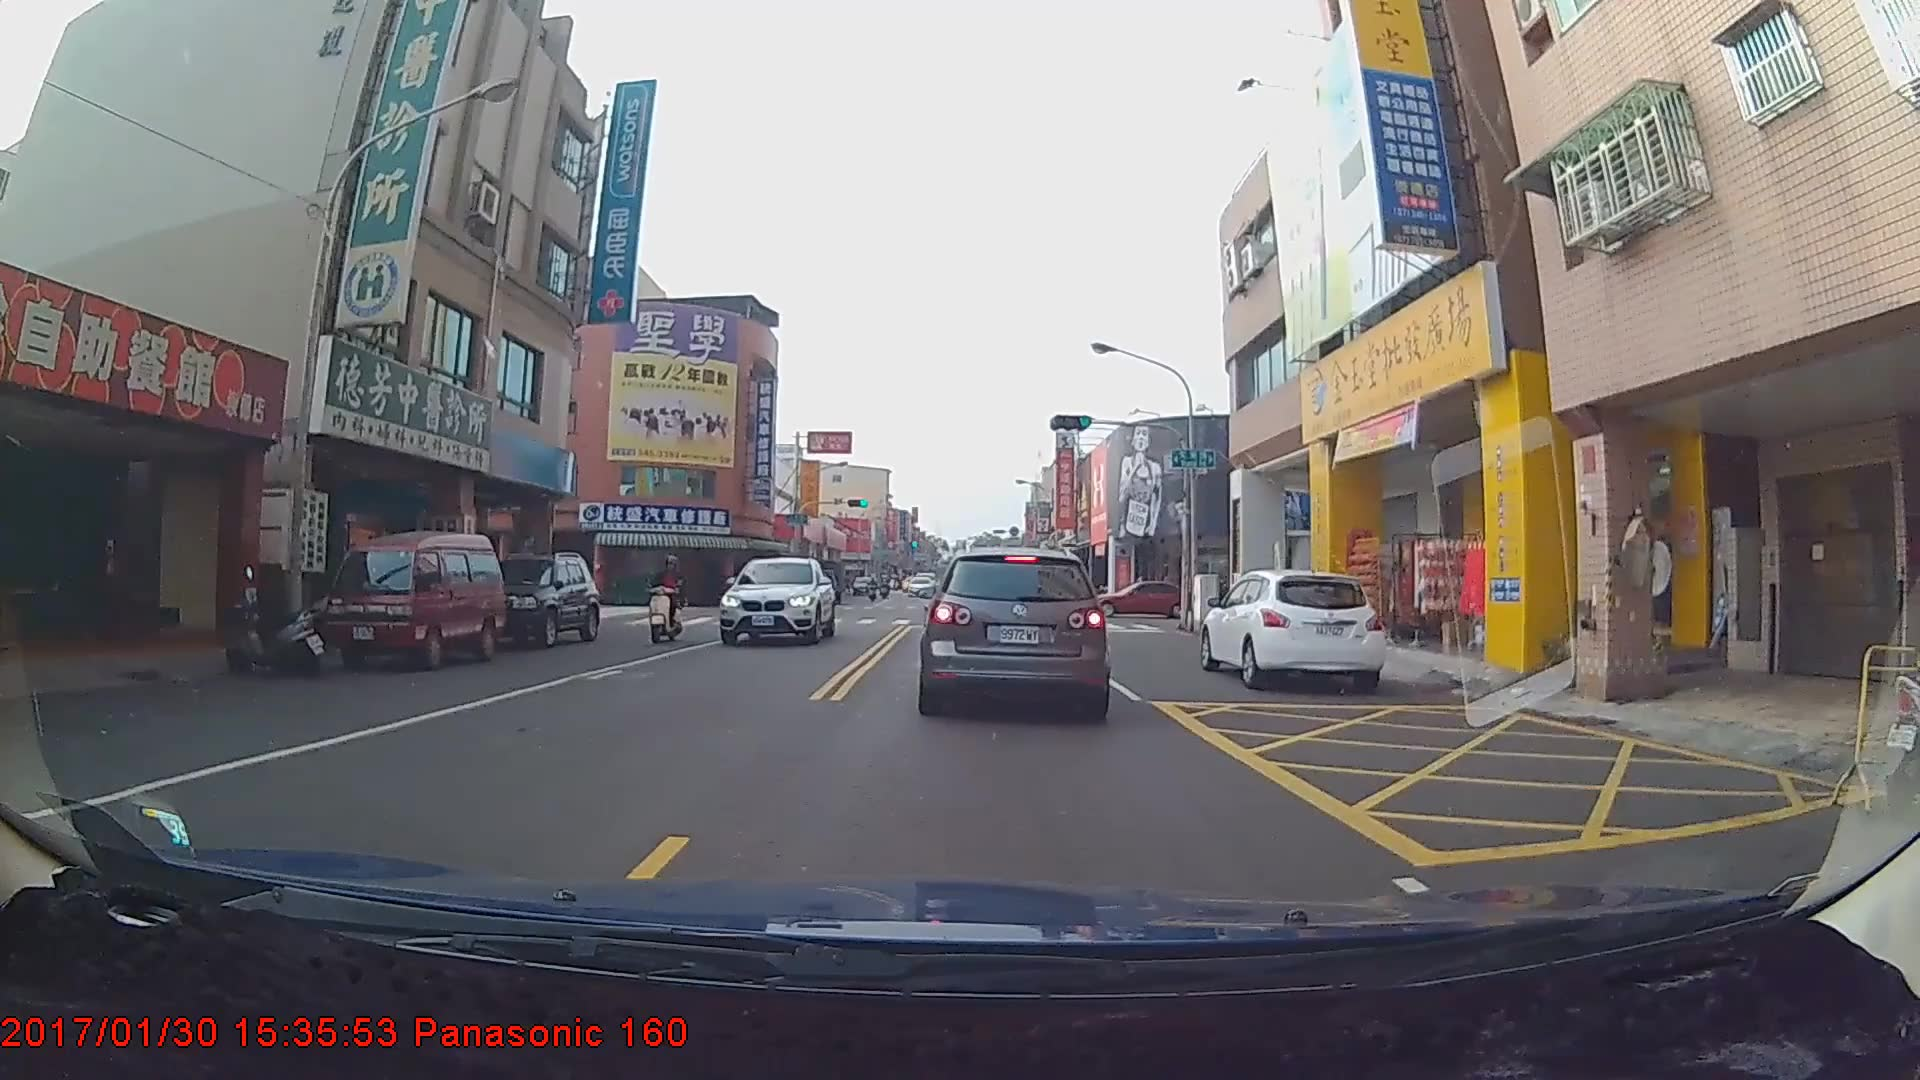rider: (643, 553, 691, 646)
vehicle: (917, 546, 1110, 716), (319, 536, 502, 670), (1199, 566, 1384, 690), (465, 550, 601, 648), (724, 553, 836, 647), (1086, 580, 1194, 617), (907, 576, 935, 597)
